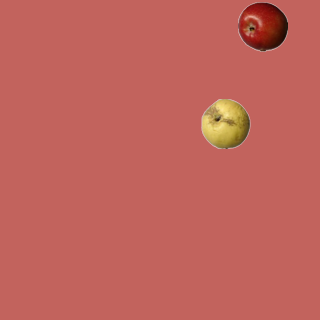Apple Braeburn: (237, 1, 287, 51)
Apple Golden 1: (200, 98, 250, 148)
